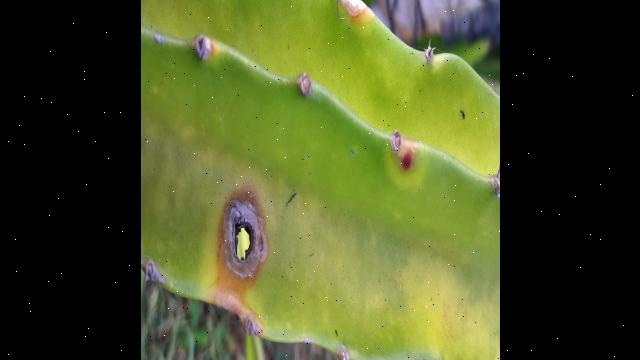stemcanker: (395, 145, 420, 183)
